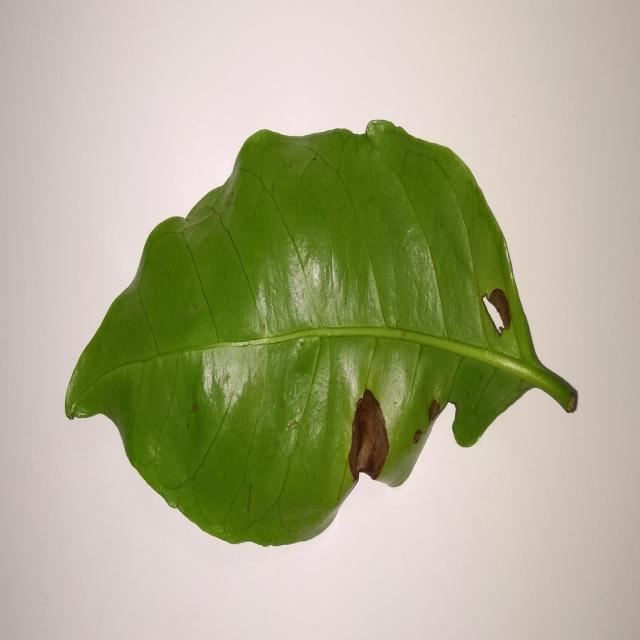Enfermedad-Antracnosis: (63, 121, 579, 549)
